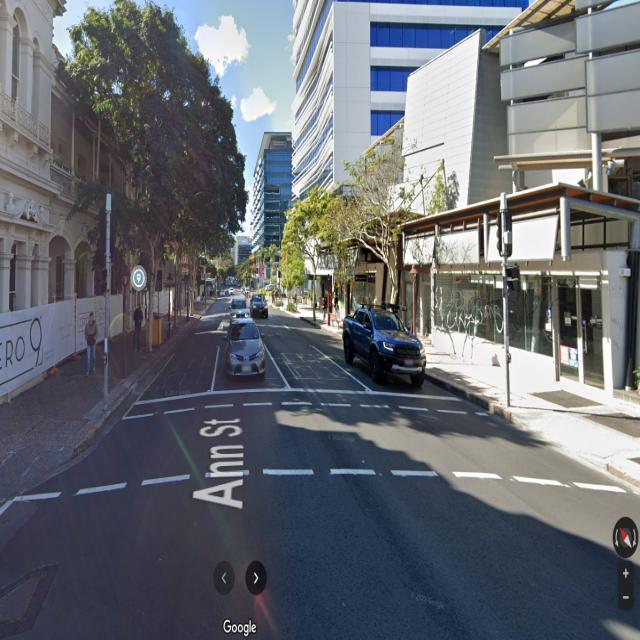steel-pole: (102, 193, 112, 413), (500, 192, 510, 407)
traffic pole: (496, 191, 516, 408), (98, 192, 116, 412)
traffic-light: (99, 210, 117, 263), (496, 208, 514, 256)
